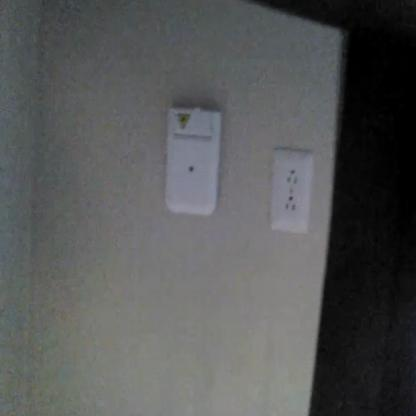OUTLET: (271, 154, 313, 232)
